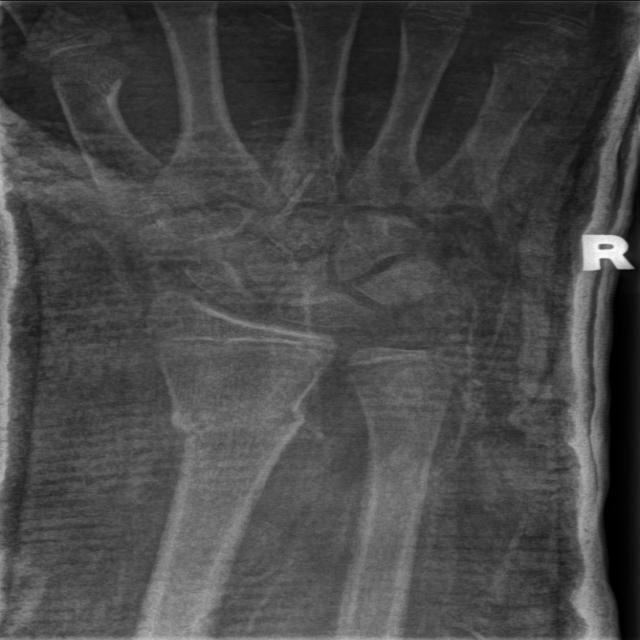radius fracture: (135, 382, 329, 530)
